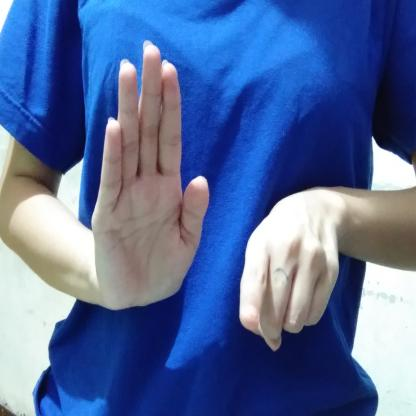stop: (82, 33, 352, 357)
